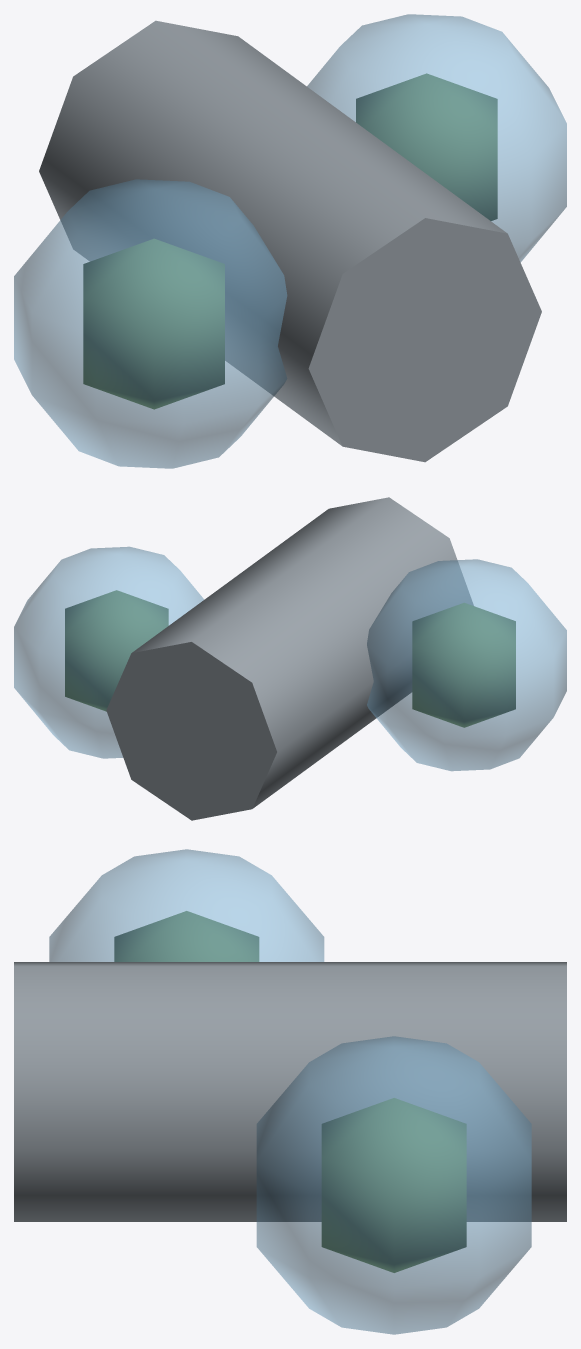
File: space_orbital_hydroponics_t1.glb
The picture shows the model from 3 angles, top to bottom: view 1: azimuth 30°, elevation 25°; view 2: azimuth 150°, elevation 25°; view 3: azimuth 270°, elevation 25°; orthographic projection. The views are drawn at different scales.
Visible parts, largest first — view 1: body; view 2: body; view 3: body.
Boxes of the visible parts, x1,y1,x2,y2 form: body: (14, 14, 566, 468); body: (14, 497, 566, 820); body: (14, 849, 566, 1334).
Size of what is drawn, in the model's own units: 10.58 by 4.4 by 8.
